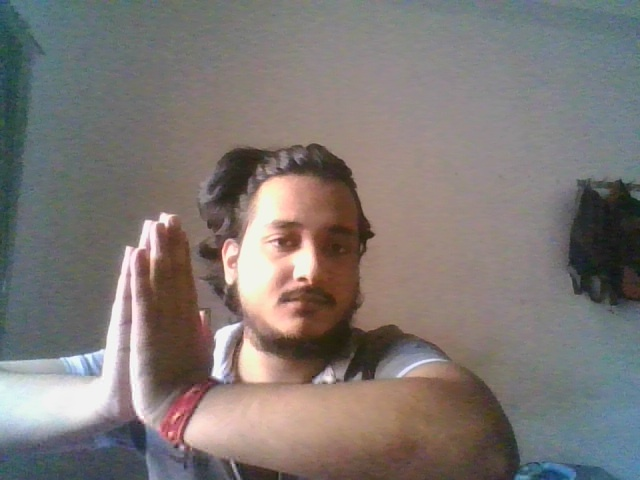ThankYou: (108, 209, 213, 384)
